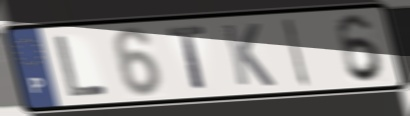6: (111, 24, 166, 100), (335, 12, 385, 85)
I: (282, 16, 312, 89)
K: (219, 21, 278, 88)
L: (52, 33, 111, 99)
T: (164, 24, 209, 93)
